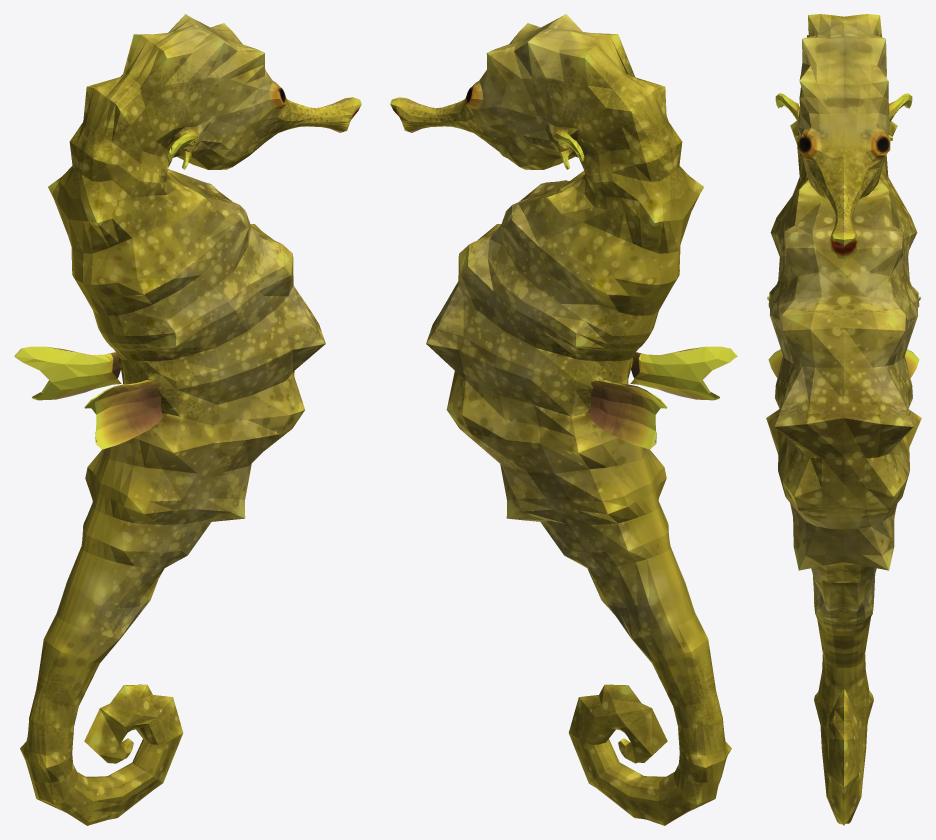
The model's file is seahorse.glb.
3 views of the same model, side by side, from view 1: azimuth 30°, elevation 25°; view 2: azimuth 150°, elevation 25°; view 3: azimuth 270°, elevation 25° (orthographic). The views are drawn at different scales.
Parts seen in each view (by area): view 1: seahorse; view 2: seahorse; view 3: seahorse.
Boxes of the visible parts, x1,y1,x2,y2 form: seahorse: (14,14,361,825); seahorse: (390,14,737,825); seahorse: (766,14,921,825).
Size of the model in its own units: 1 by 2.21 by 0.3738.
1 material, 1 textured.
